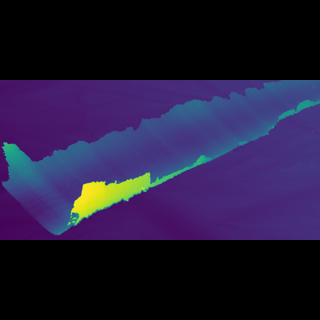Loch: (1, 118, 317, 198)
